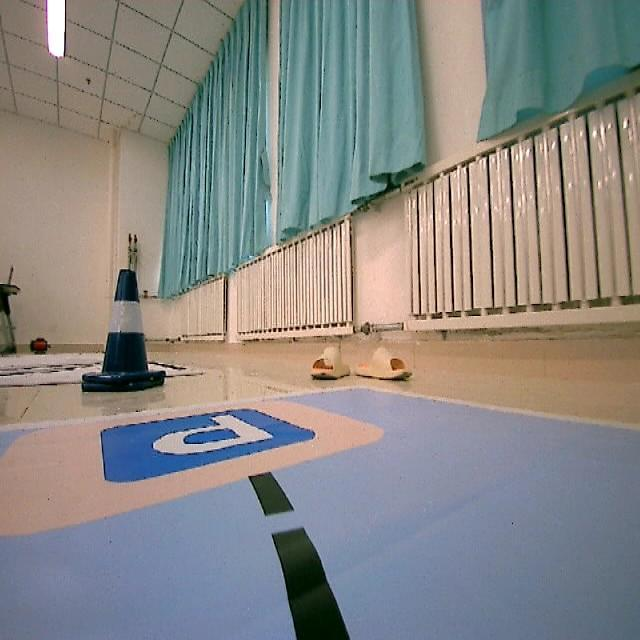obstacle: (75, 268, 171, 400)
